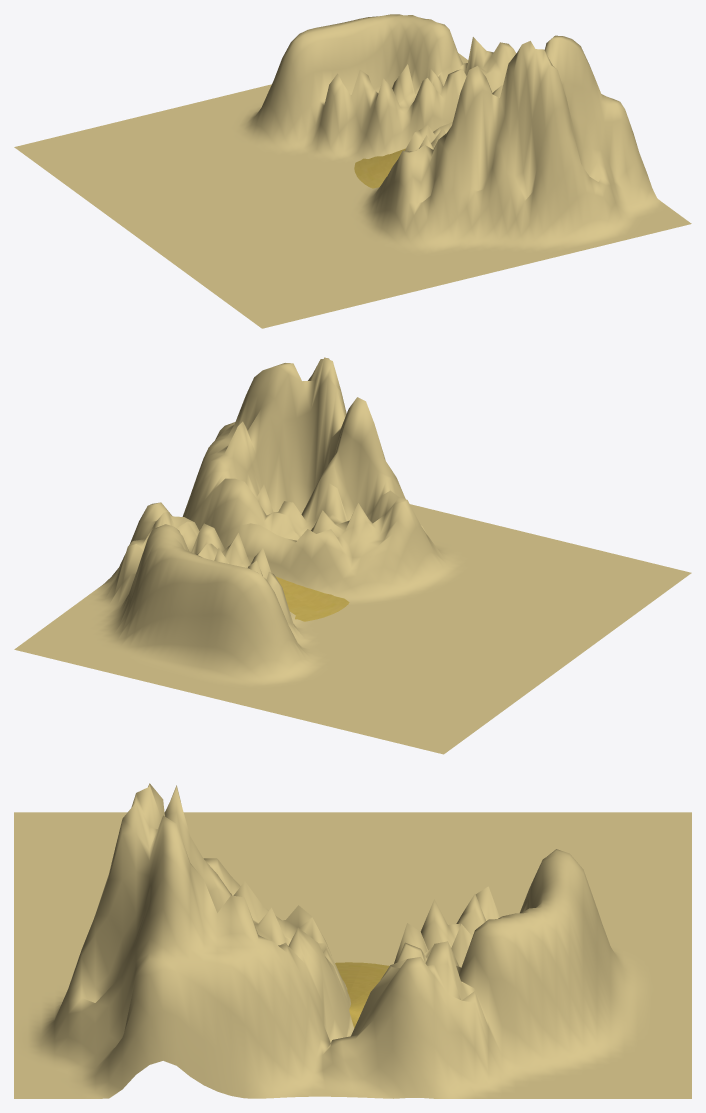
File: 洪积扇.gltf
3 views of the same model, one above another, from view 1: azimuth 30°, elevation 25°; view 2: azimuth 150°, elevation 25°; view 3: azimuth 270°, elevation 25° (orthographic). The views are drawn at different scales.
Visible parts, largest first — view 1: node__-1094, node__-1098; view 2: node__-1094, node__-1098; view 3: node__-1094, node__-1098.
Part boxes in pixels (<box>): node__-1094: <box>14,14,691,328</box>; node__-1098: <box>354,148,405,188</box>; node__-1094: <box>14,357,691,754</box>; node__-1098: <box>275,576,349,621</box>; node__-1094: <box>14,783,691,1098</box>; node__-1098: <box>335,962,389,1027</box>.
Size of the model in its own units: 1.27 by 0.5317 by 1.27.
